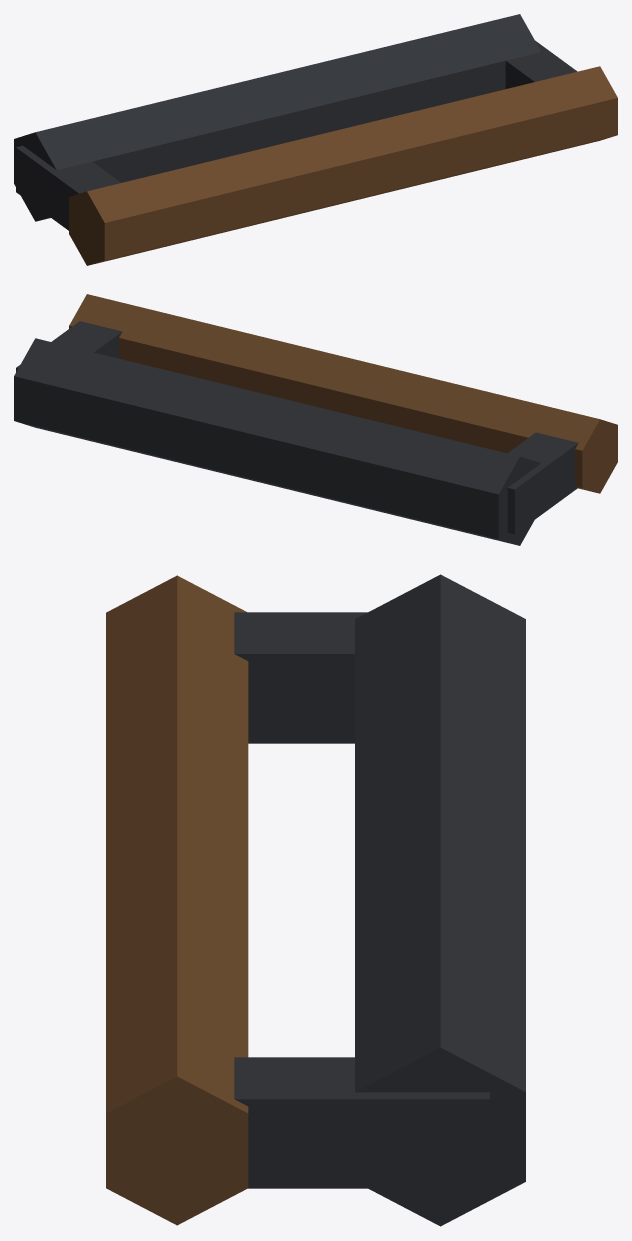
File: sg_crank_handle.glb
3 views of the same model, one above another, from view 1: azimuth 30°, elevation 25°; view 2: azimuth 150°, elevation 25°; view 3: azimuth 270°, elevation 25° (orthographic). The views are drawn at different scales.
Visible parts, largest first — view 1: geometry_0; view 2: geometry_0; view 3: geometry_0.
Part boxes in pixels (<box>): geometry_0: <box>14,14,617,265</box>; geometry_0: <box>14,294,617,545</box>; geometry_0: <box>106,574,525,1226</box>.
Size of the model in its own units: 0.36 by 0.06 by 0.1276.
